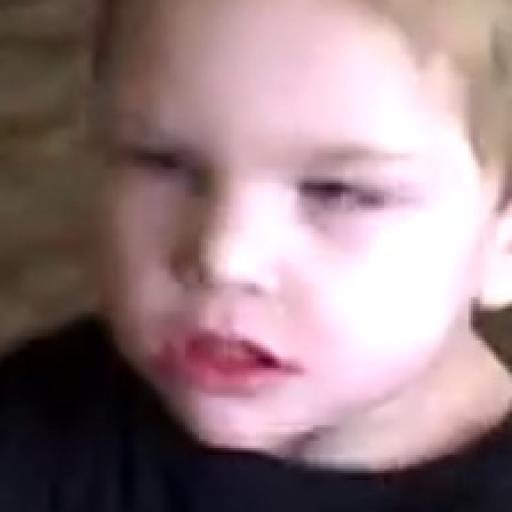Autism: (60, 0, 512, 502)
